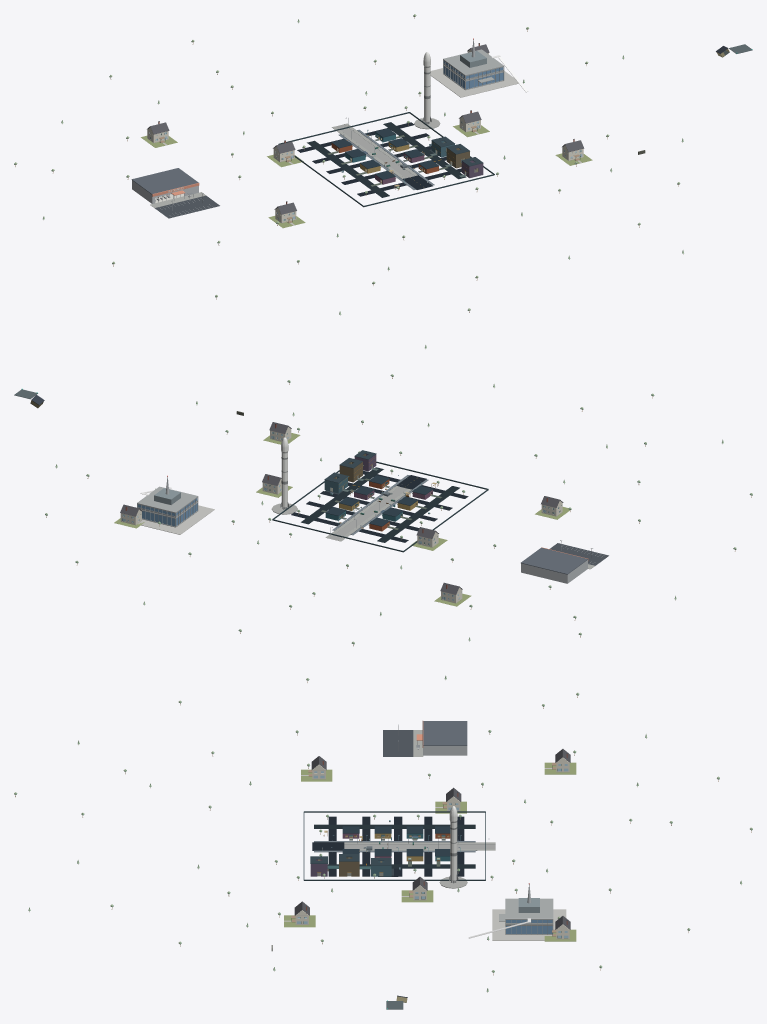
Rendered from moon_scenery.glb.
3 renders of one model, top to bottom at view 1: azimuth 30°, elevation 25°; view 2: azimuth 150°, elevation 25°; view 3: azimuth 270°, elevation 25°, orthographic. The views are drawn at different scales.
Visible parts, largest first — view 1: environment; view 2: environment; view 3: environment.
Boxes of the visible parts, x1=… form: environment: x1=14, y1=14, x2=752, y2=315; environment: x1=14, y1=345, x2=752, y2=646; environment: x1=14, y1=675, x2=752, y2=1009.
Size of the model in its own units: 501 by 50.7 by 440.
